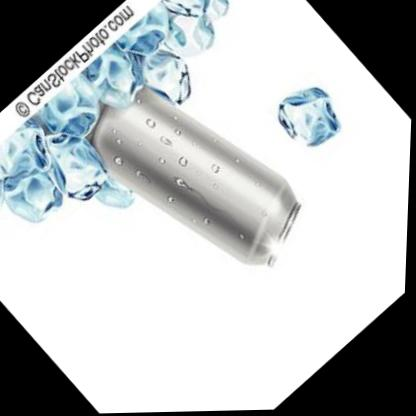metal: (94, 88, 299, 264)
paper: (127, 0, 228, 55)
